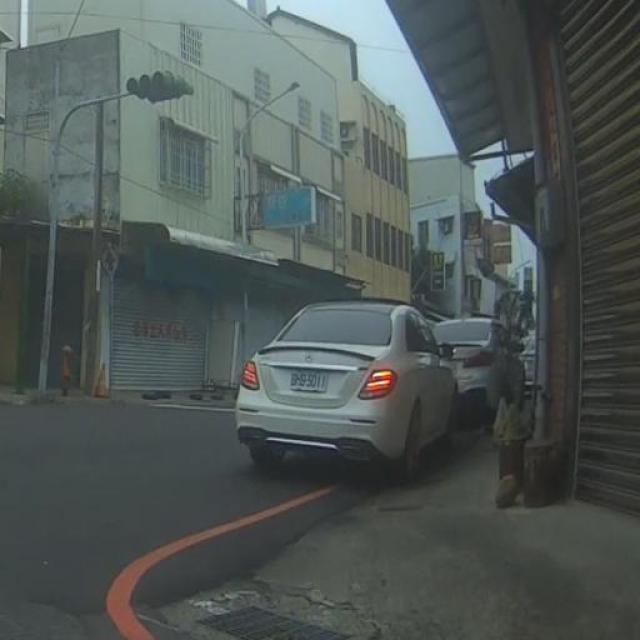illegalparking: (236, 300, 524, 478)
